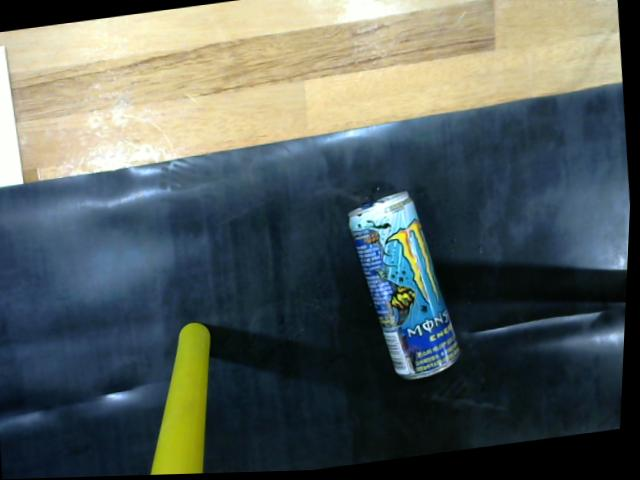can: (340, 180, 473, 391)
